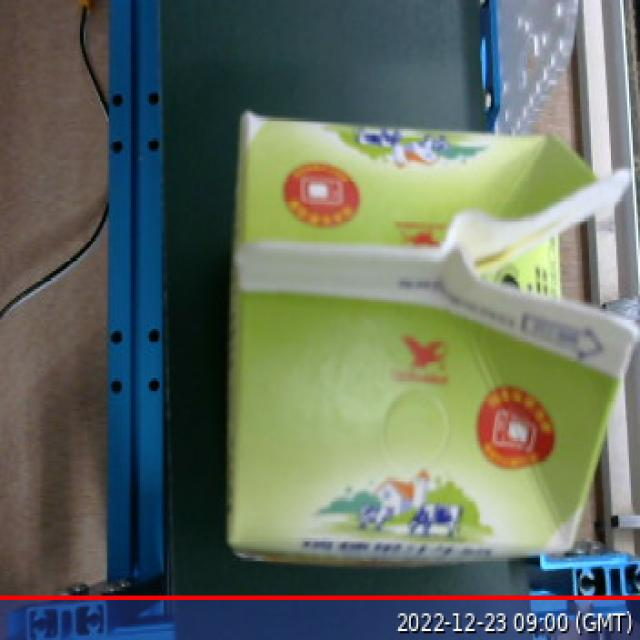non_white_jug: (214, 88, 638, 569)
